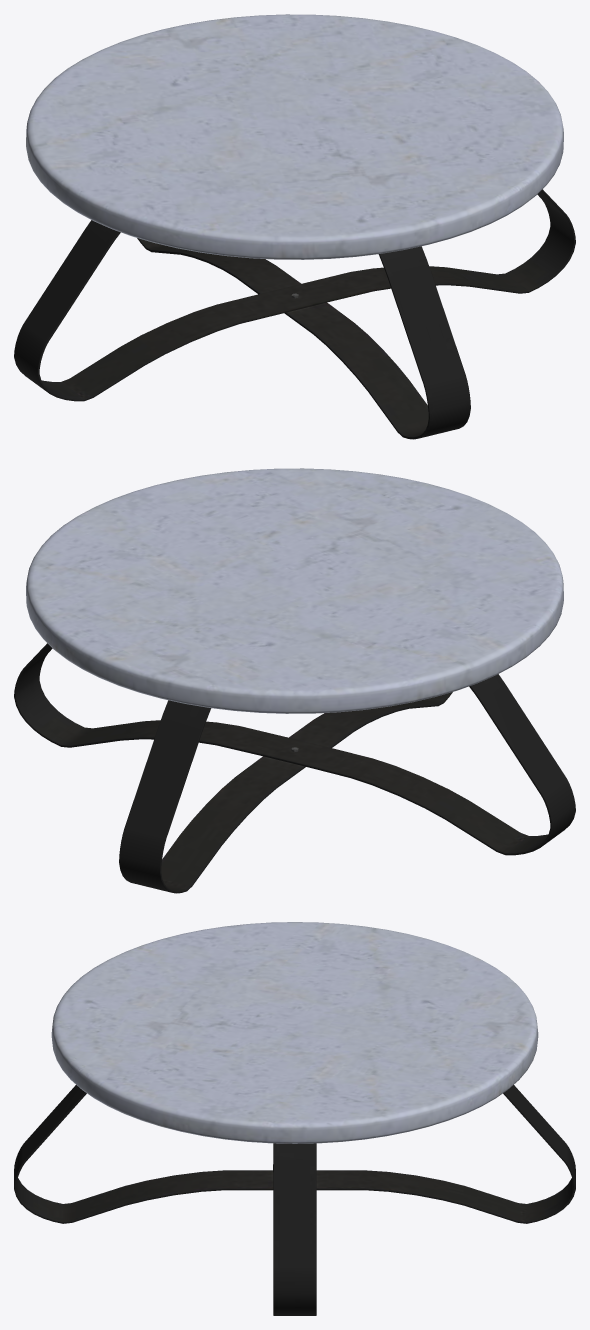
Rendered from coffee_table_round_01.glb.
3 views of the same model, one above another, from view 1: azimuth 30°, elevation 25°; view 2: azimuth 150°, elevation 25°; view 3: azimuth 270°, elevation 25° (orthographic). The views are drawn at different scales.
Visible parts, largest first — view 1: coffee_table_round_01; view 2: coffee_table_round_01; view 3: coffee_table_round_01.
Part boxes in pixels (left/top/right/bottom): coffee_table_round_01: left=14, top=14, right=575, bottom=439; coffee_table_round_01: left=14, top=468, right=575, bottom=893; coffee_table_round_01: left=14, top=922, right=575, bottom=1315.
Size of the model in its own units: 1.3 by 0.491 by 1.3.
1 material, 1 textured.
